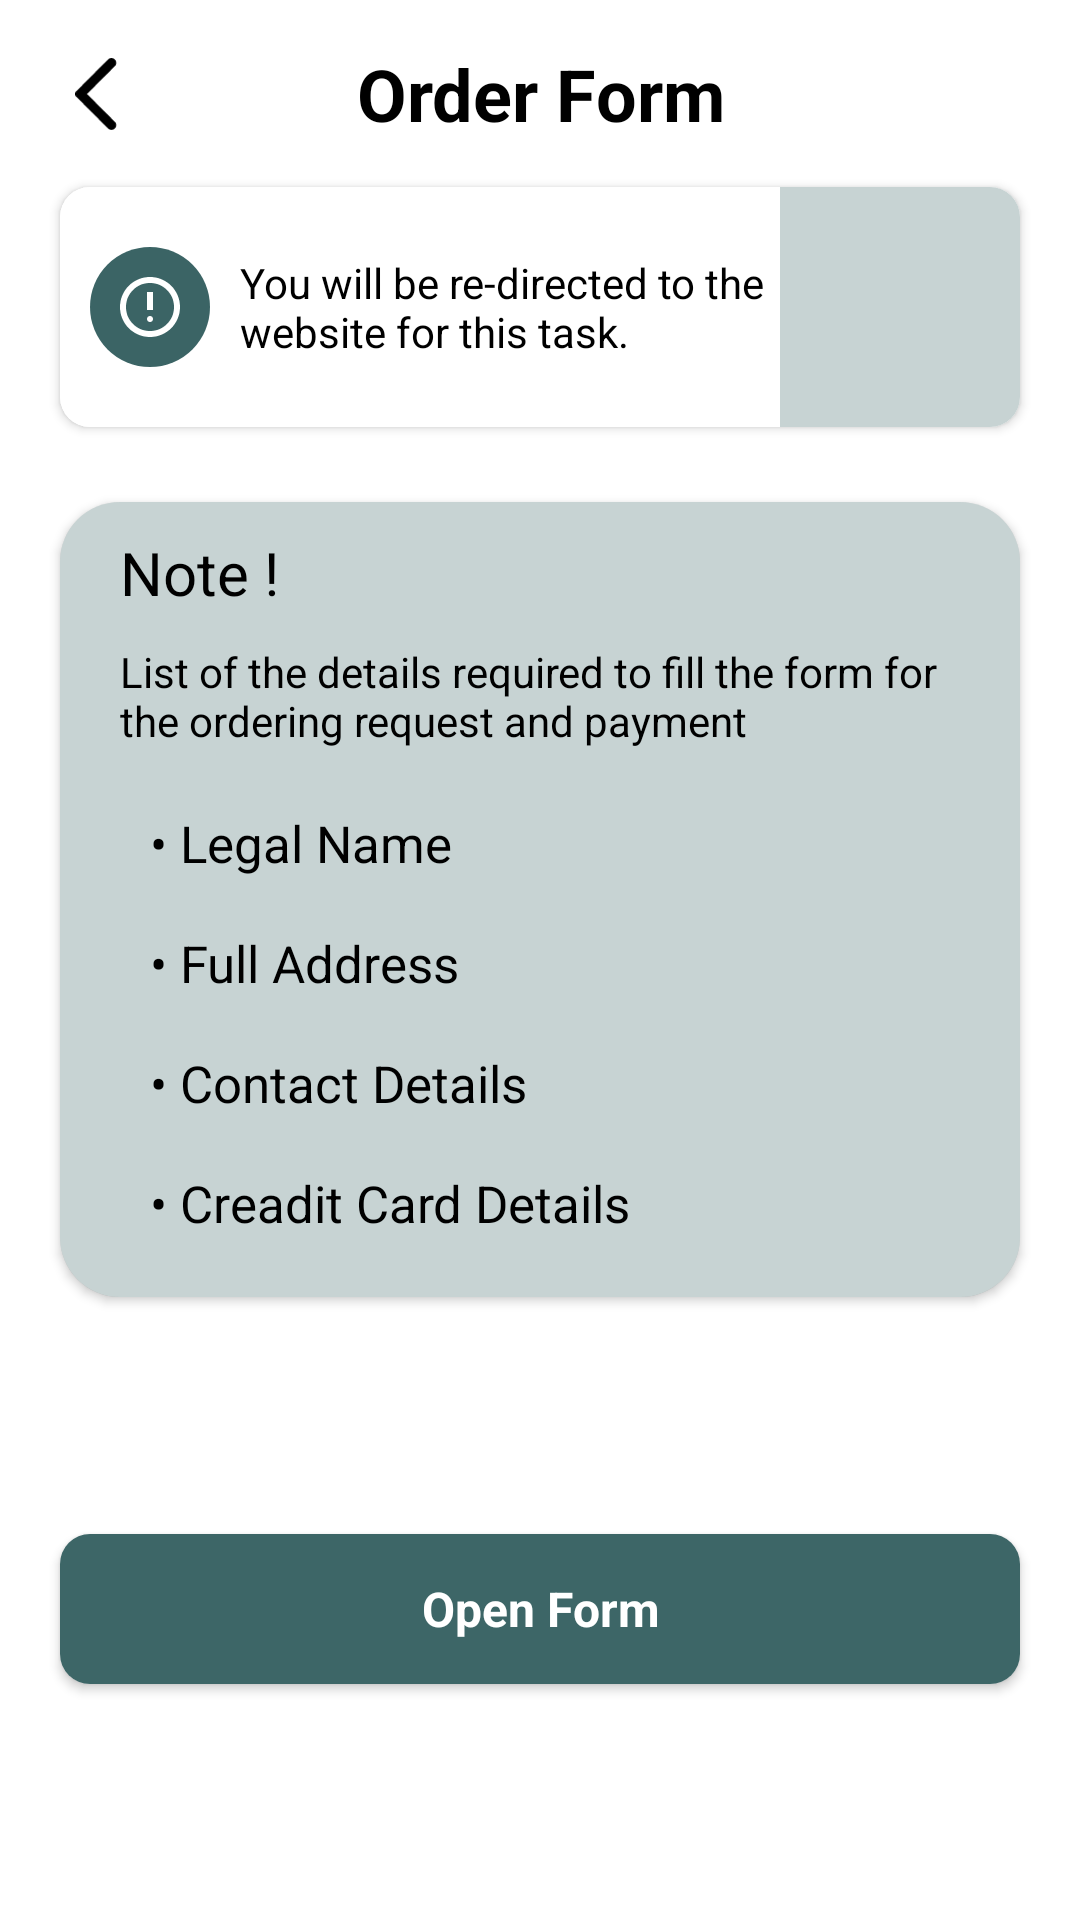

Named icons in this screenshot (1080x1920) and their bounding boxes, [x1,y1,x2,y2]:
alert: [90,247,210,367]
back: [75,58,117,130]
